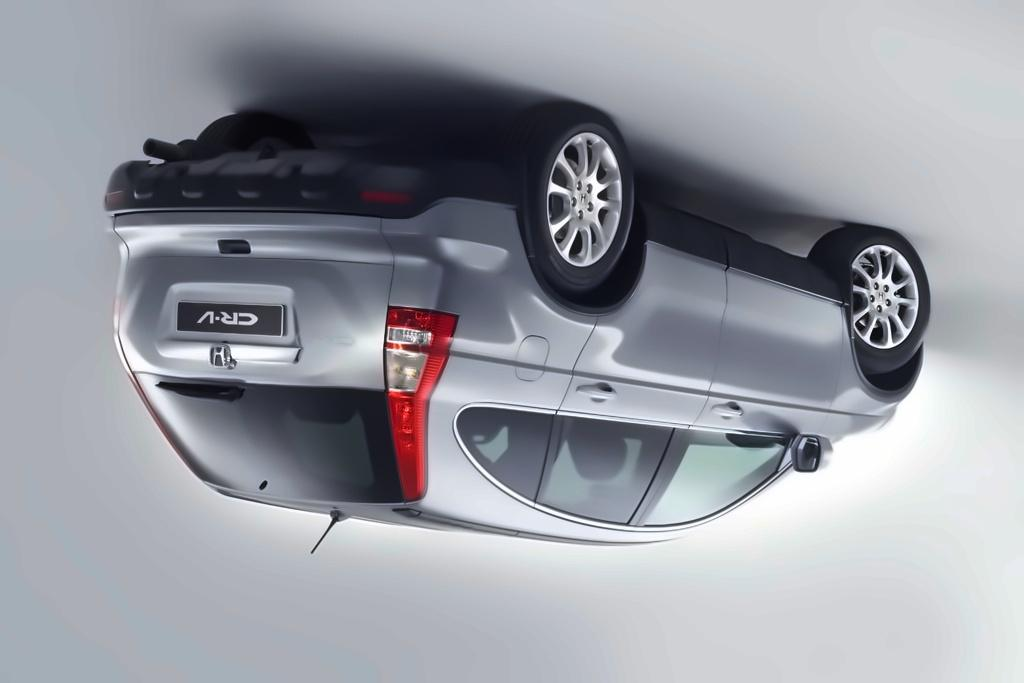Car boot: (112, 208, 400, 508)
Fender - -R-L-: (389, 152, 604, 390)
Passenger-s door - -F-L-: (676, 270, 846, 552)
Passenger-s door - -R-L-: (542, 232, 713, 542)
Rear bumper: (98, 146, 449, 226)
Rear light - -L-: (368, 284, 456, 519)
Side bumper - -L-: (630, 192, 860, 312)
Side mirror - -L-: (774, 416, 864, 490)
